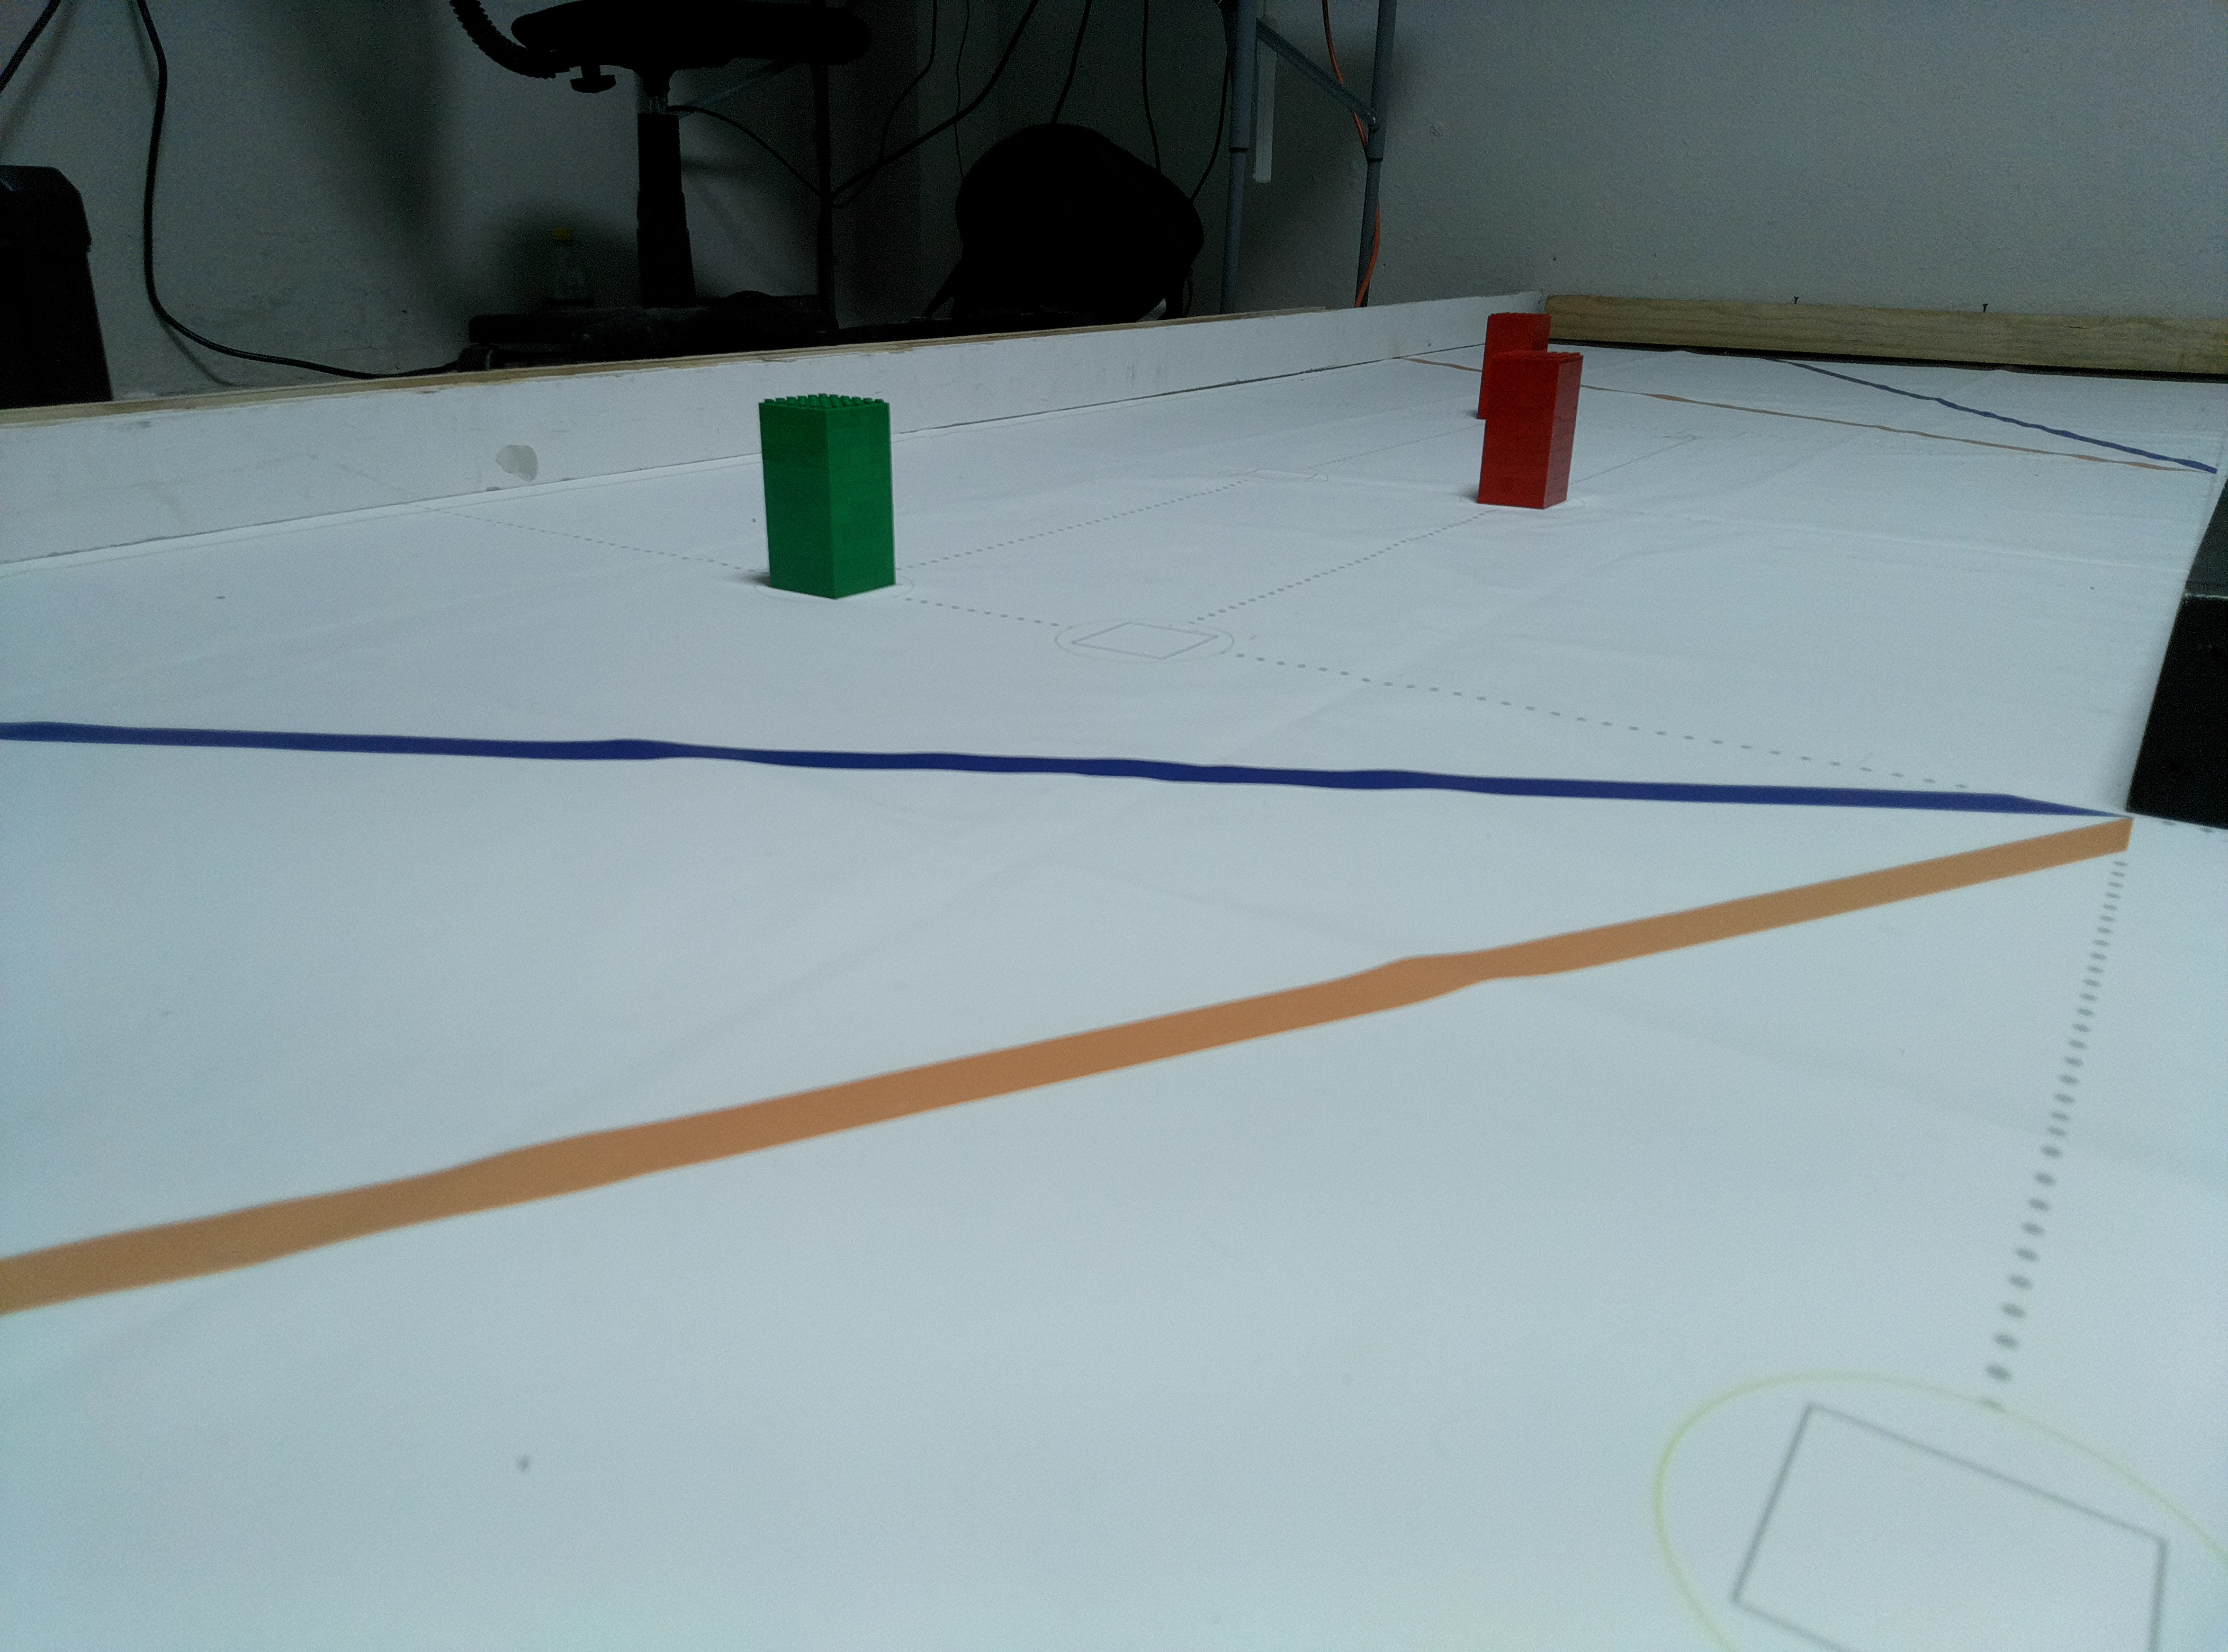greenbox: (755, 392, 899, 602)
redbox: (1475, 349, 1586, 512), (1477, 311, 1553, 423)
